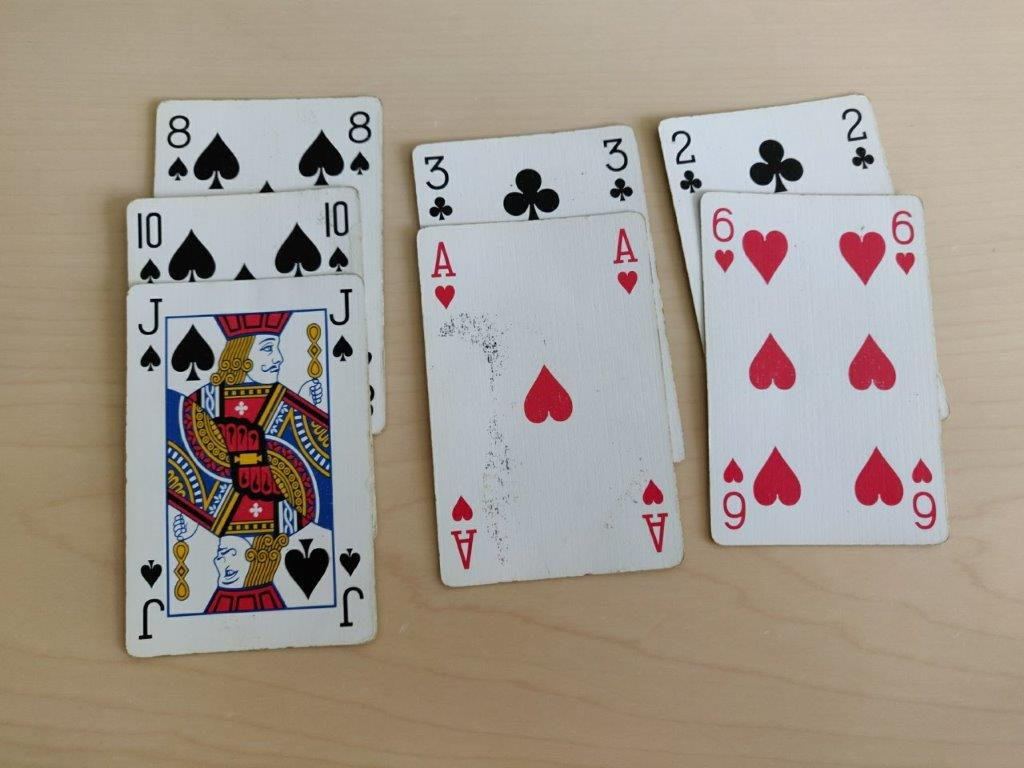10S: (131, 207, 167, 286), (319, 198, 352, 275)
2C: (665, 126, 708, 196), (835, 106, 879, 172)
3C: (598, 131, 638, 208), (419, 149, 458, 222)
6H: (706, 199, 740, 274), (888, 208, 919, 276)
8S: (342, 106, 376, 178), (164, 110, 192, 187)
AH: (608, 224, 644, 299), (430, 238, 459, 310)
JS: (324, 286, 358, 364), (134, 293, 165, 374)
